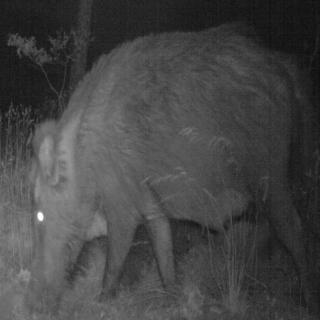Pig: (21, 24, 308, 302)
